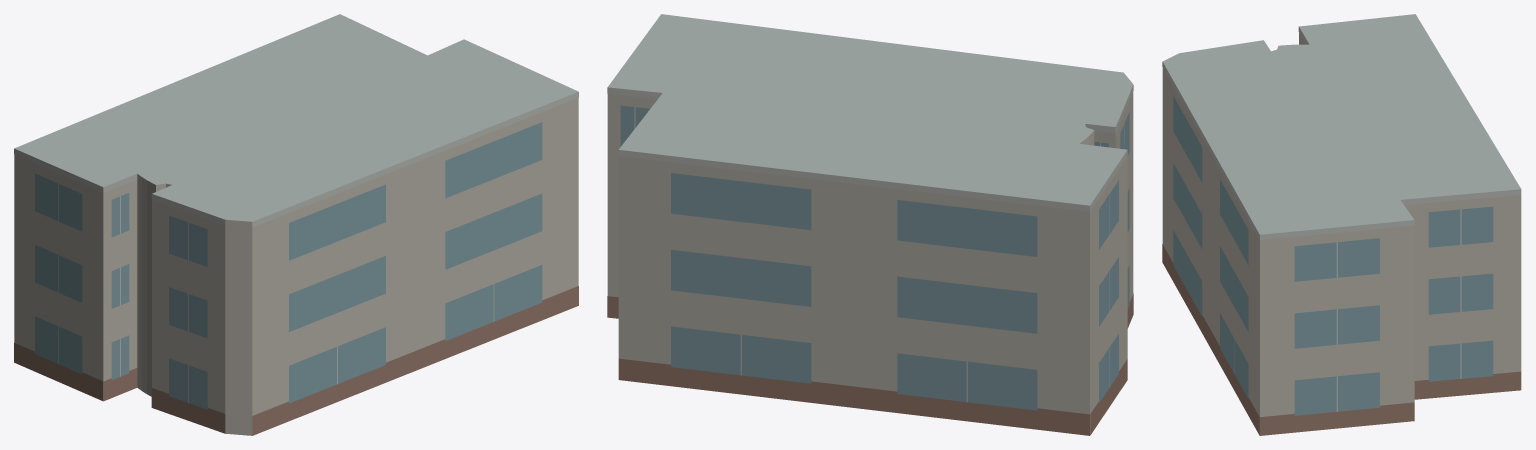
The model's file is survey-upis-32821086.glb.
3 renders of one model, left to right at view 1: azimuth 30°, elevation 25°; view 2: azimuth 150°, elevation 25°; view 3: azimuth 270°, elevation 25°, orthographic. The views are drawn at different scales.
Parts seen in each view (by area): view 1: survey-upis-32821086.tmp; view 2: survey-upis-32821086.tmp; view 3: survey-upis-32821086.tmp.
Boxes of the visible parts, <box> form: survey-upis-32821086.tmp: <box>14,14,578,435</box>; survey-upis-32821086.tmp: <box>607,14,1133,435</box>; survey-upis-32821086.tmp: <box>1162,14,1521,435</box>.
Size of the model in its own units: 20.97 by 8.9 by 14.41.
